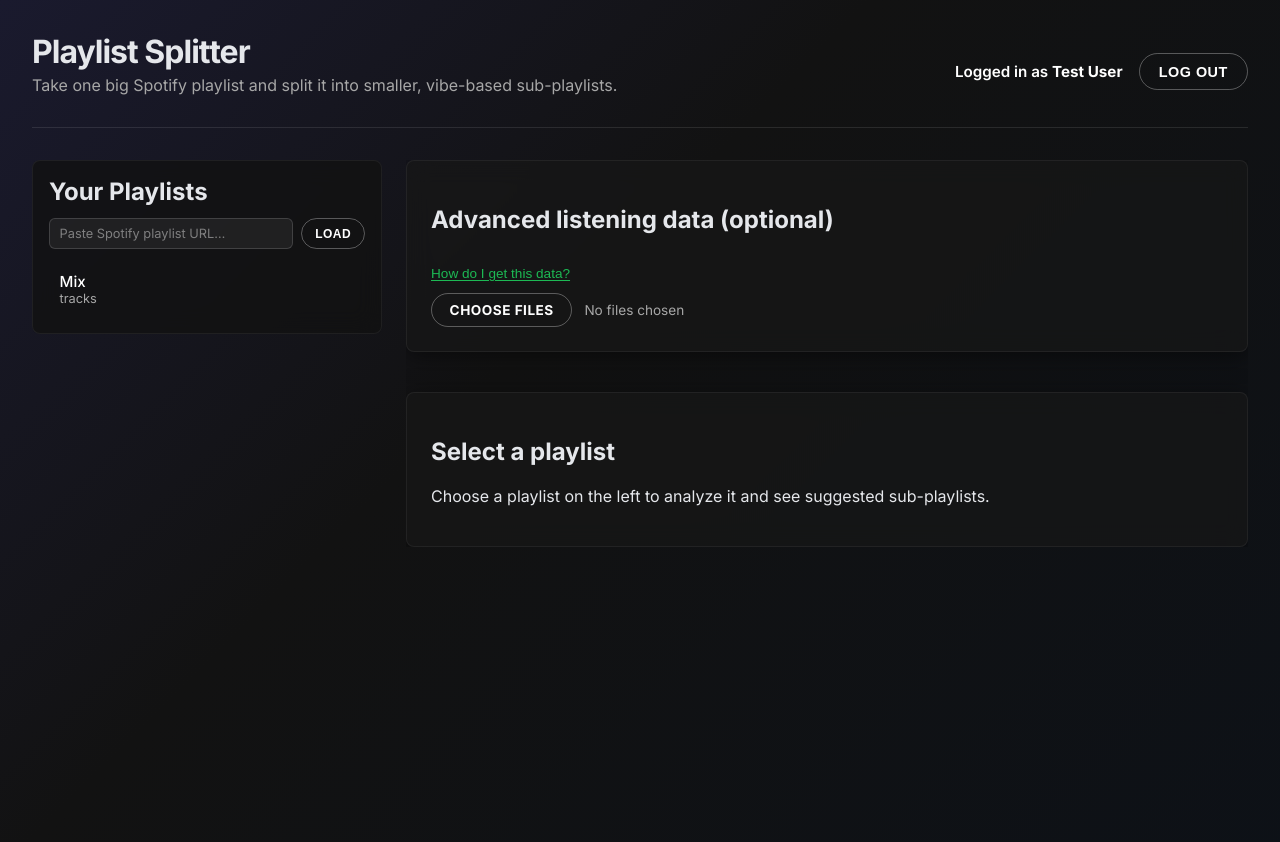
Test case: Vibe analysis flow › renders vibe card with name and description when groupings arrive
This screenshot has width=1280, height=842.
Click the text "Mix": {"x": 73, "y": 282} [60, 272, 86, 291]
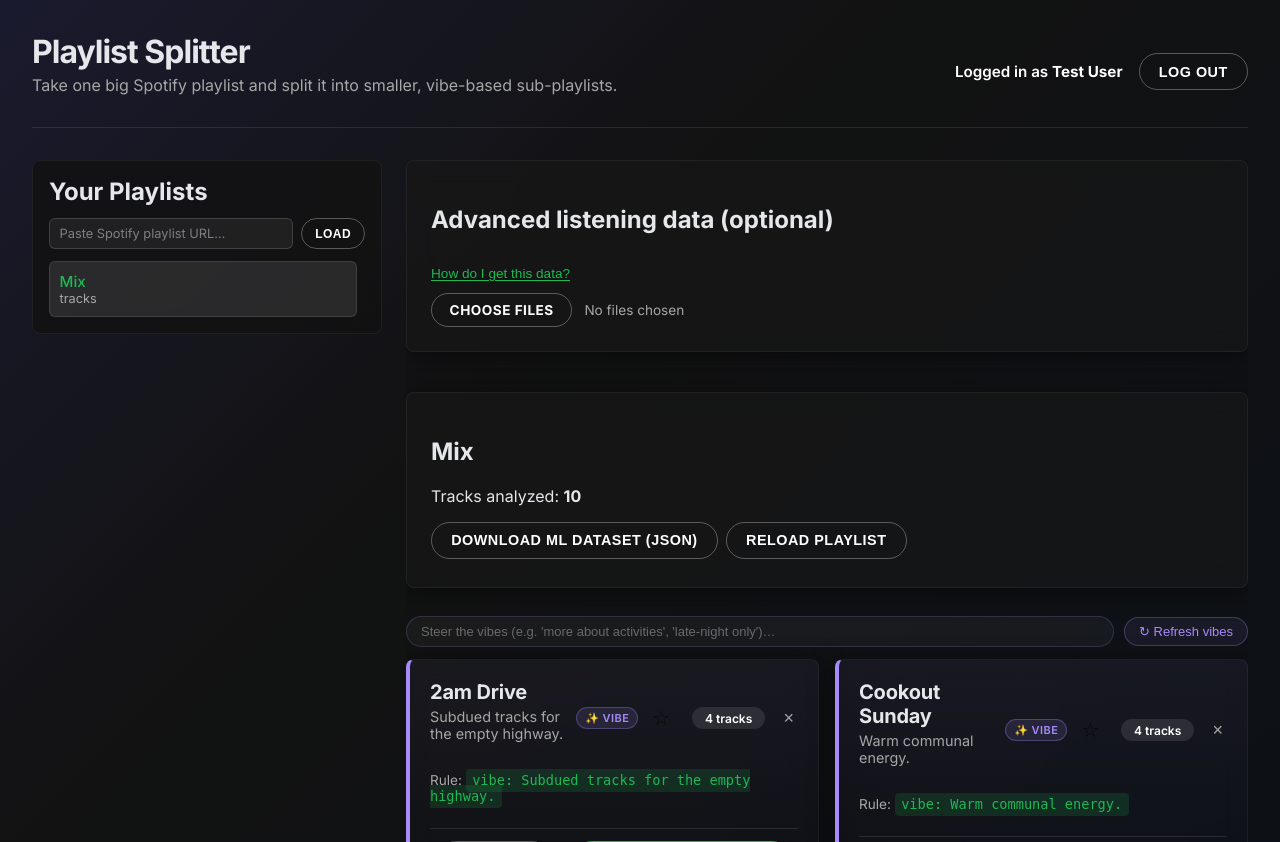
Expected: the heading "2am Drive" is shown, [430, 680, 527, 704]
Expected: the text "Subdued tracks for the empty highway." is shown, [430, 708, 576, 742]
Expected: the heading "Cookout Sunday" is shown, [859, 680, 940, 728]
